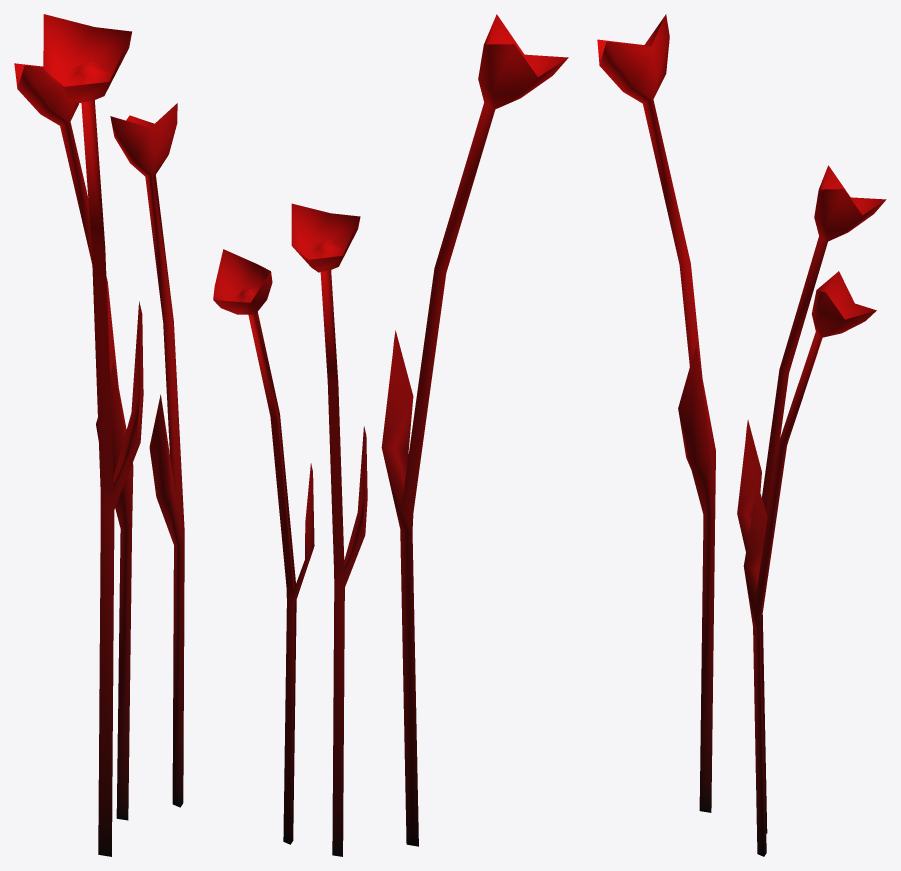
File: simple_flowers.glb
3 views of the same model, side by side, from view 1: azimuth 30°, elevation 25°; view 2: azimuth 150°, elevation 25°; view 3: azimuth 270°, elevation 25° (orthographic). The views are drawn at different scales.
Visible parts, largest first — view 1: Cube; view 2: Cube; view 3: Cube.
Boxes of the visible parts, x1,y1,x2,y2 form: Cube: [14, 14, 184, 856]; Cube: [213, 14, 568, 856]; Cube: [597, 14, 886, 856].
Bounding box in the file's own units: 0.2375 × 0.8114 × 0.2799.
